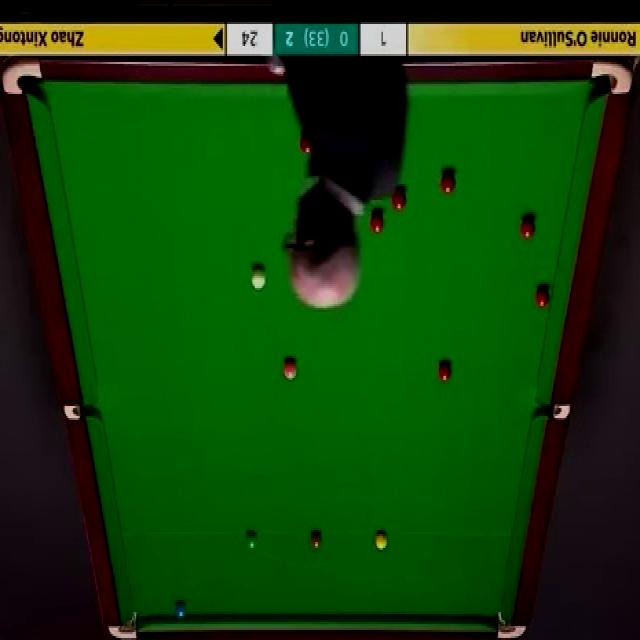blue-ball: (174, 598, 187, 620)
brown-ball: (309, 530, 322, 550)
green-ball: (245, 529, 259, 550)
pink-ball: (283, 354, 298, 382)
red-ball: (391, 186, 407, 212), (534, 284, 551, 308), (300, 132, 316, 156), (370, 211, 386, 235), (442, 170, 456, 197), (439, 362, 453, 384), (522, 217, 534, 240)
white-ball: (250, 265, 266, 291)
yellow-ball: (374, 530, 389, 551)
